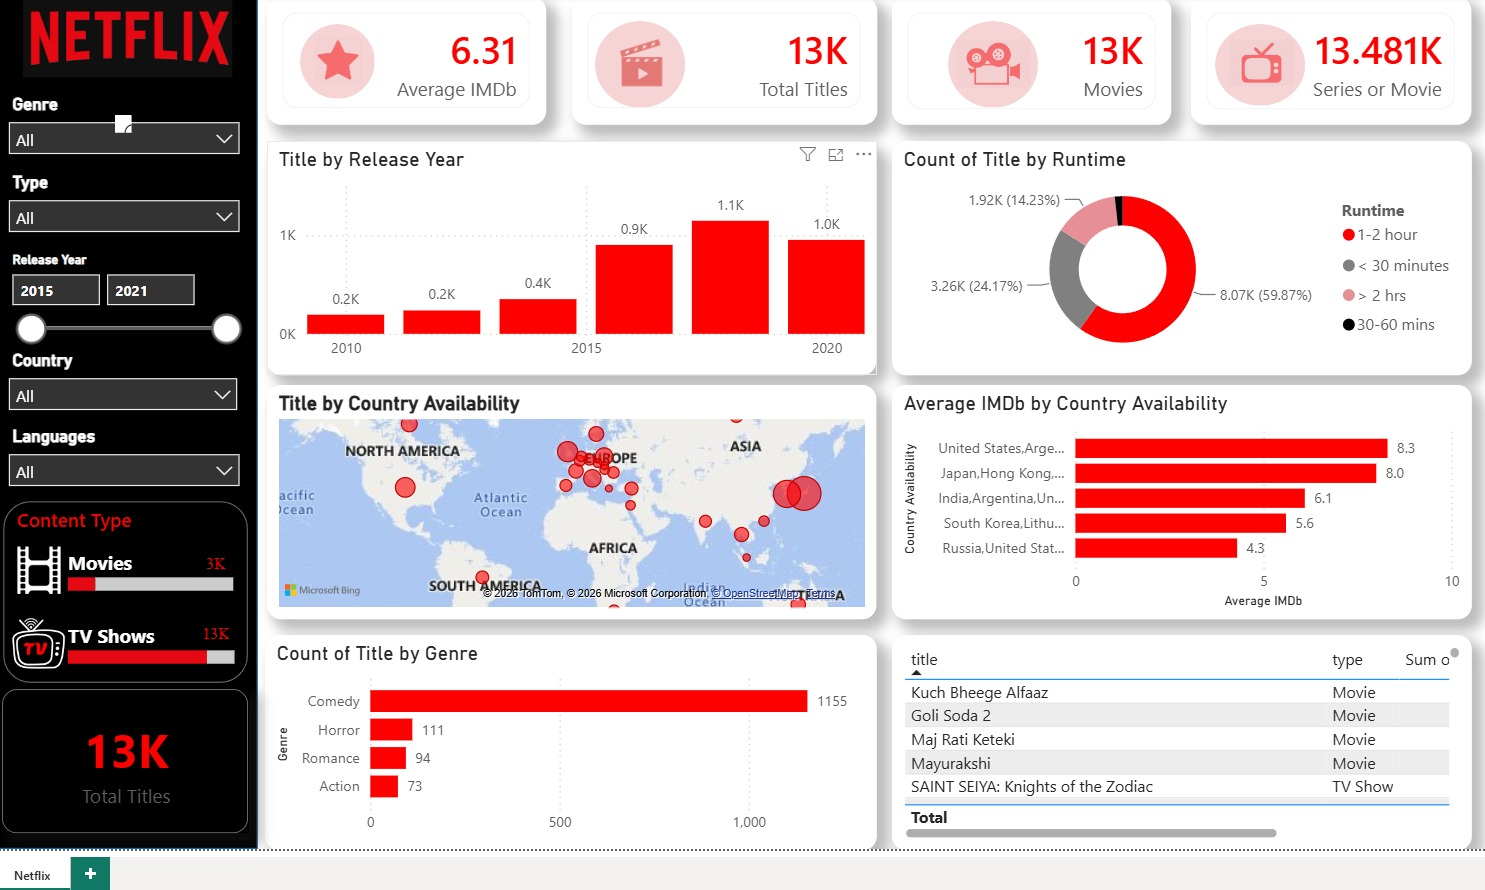

This screenshot's page, from the dashboard's own definition file:
{"tool":"powerbi","page":{"name":"Page 1","canvas":[1280,720],"ordinal":0},"visuals":[{"type":"shape","box":[0,0,220.3,720],"z":0},{"type":"image","box":[5.8,0,208.8,67.7],"z":1000},{"type":"slicer","fields":{"Values":["netflix-rotten-tomatoes-metaric.Genre"]},"box":[0,77.8,214.6,66.2],"z":2000},{"type":"slicer","fields":{"Values":["netflix_titles.type"]},"box":[0,144,214.6,66.2],"z":3000},{"type":"slicer","fields":{"Values":["netflix-rotten-tomatoes-metaric.Netflix Release Year"]},"box":[0,210.2,214.6,109.4],"z":4000},{"type":"slicer","fields":{"Values":["netflix-rotten-tomatoes-metaric.Country Availability"]},"box":[0,293.8,213.1,64.8],"z":5000},{"type":"slicer","fields":{"Values":["netflix-rotten-tomatoes-metaric.Languages"]},"box":[0,358.6,214.6,66.2],"z":6000},{"type":"cardVisual","fields":{"Data":["netflix-rotten-tomatoes-metaric.Average IMDb"]},"box":[228.1,0,235.9,107.8],"z":7000},{"type":"cardVisual","fields":{"Data":["netflix-rotten-tomatoes-metaric.Total Titles"]},"box":[485.9,0,257.8,107.8],"z":8000},{"type":"cardVisual","fields":{"Data":["netflix-rotten-tomatoes-metaric.Movies"]},"box":[756,0,236.2,108],"z":9000},{"type":"cardVisual","fields":{"Data":["CountNonNull(netflix-rotten-tomatoes-metaric.Series or Movie)"]},"box":[1009.2,0,236.7,108.2],"z":10000},{"type":"columnChart","title":"Title by Release Year","fields":{"Category":["netflix_titles.release_year"],"Y":["CountNonNull(netflix_titles.title)"]},"box":[228.6,121.4,515.3,198],"z":11000},{"type":"donutChart","fields":{"Category":["netflix-rotten-tomatoes-metaric.Runtime"],"Y":["CountNonNull(netflix-rotten-tomatoes-metaric.Title)"]},"box":[756.1,121.4,489.8,198],"z":12000},{"type":"map","title":"Title by Country Availability","fields":{"Category":["netflix-rotten-tomatoes-metaric.Country Availability"],"Size":["CountNonNull(netflix-rotten-tomatoes-metaric.Title)"]},"box":[228.6,327.6,515.3,198],"z":13000},{"type":"clusteredBarChart","fields":{"Category":["netflix-rotten-tomatoes-metaric.Country Availability"],"Y":["netflix-rotten-tomatoes-metaric.Average IMDb"]},"box":[756.1,327.6,489.8,198],"z":14000},{"type":"barChart","fields":{"Category":["netflix-rotten-tomatoes-metaric.Genre"],"Y":["CountNonNull(netflix-rotten-tomatoes-metaric.Title)"]},"box":[226.5,538.8,517.3,181.6],"z":15000},{"type":"tableEx","fields":{"Values":["netflix_titles.title","netflix_titles.type","Sum(netflix_titles.release_year)","Sum(netflix-rotten-tomatoes-metaric.IMDb Score)"]},"box":[756.1,538.8,489.8,181.6],"z":16000},{"type":"image","box":[254.9,34.6,66.2,40.3],"z":17000},{"type":"shape","box":[256.3,23,63.4,63.4],"z":18000},{"type":"image","box":[511.2,33.1,66.2,44.6],"z":19000},{"type":"image","box":[810.7,23,63.4,66.2],"z":20000},{"type":"shape","box":[803.5,20.2,76.3,73.4],"z":21000},{"type":"image","box":[1041.1,33.1,54.7,44.6],"z":22000},{"type":"shape","box":[1029.6,23,76.3,69.1],"z":23000},{"type":"shape","box":[505.4,20.2,76.3,73.4],"z":24000},{"type":"cardVisual","fields":{"Data":["netflix-rotten-tomatoes-metaric.Total Titles"]},"box":[4.3,584.6,208.8,122.4],"z":25000},{"type":"textbox","box":[11.5,426.2,191.5,38.9],"z":26000},{"type":"image","box":[0,514.1,70.6,66.2],"z":27000},{"type":"image","box":[0,401.8,70.6,165.6],"z":28000},{"type":"textbox","box":[54.7,524.2,142.6,56.2],"z":29000},{"type":"textbox","box":[54.7,462.2,144,51.8],"z":30000},{"type":"shape","box":[4.3,424.8,208.8,155.5],"z":31000},{"type":"barChart","box":[100,100,14,15],"z":32000},{"type":"hundredPercentStackedBarChart","fields":{"Y":["Content Type.Movies Count","Content Type.TV Shows Count"]},"box":[54.7,462.2,149.8,60.5],"z":33000},{"type":"barChart","fields":{"Y":["Content Type.TV Shows Count","Content Type.Movies Count"]},"box":[54.7,524.2,184.3,60.5],"z":34000},{"type":"cardVisual","fields":{"Data":["Content Type.Movies Count"]},"box":[146.9,446.4,76.3,61.9],"z":35000},{"type":"cardVisual","fields":{"Data":["Content Type.TV Shows Count"]},"box":[146.9,505.4,76.3,61.9],"z":36000}]}

Visuals, with their boxes in screenshot pixels (x1, y1, x2, y2):
shape: [x1=0, y1=0, x2=254, y2=846]
image: [x1=0, y1=0, x2=247, y2=73]
slicer - netflix-rotten-tomatoes-metaric.Genre: [x1=0, y1=85, x2=247, y2=163]
slicer - netflix_titles.type: [x1=0, y1=163, x2=247, y2=242]
slicer - netflix-rotten-tomatoes-metaric.Netflix Release Year: [x1=0, y1=242, x2=247, y2=371]
slicer - netflix-rotten-tomatoes-metaric.Country Availability: [x1=0, y1=341, x2=245, y2=418]
slicer - netflix-rotten-tomatoes-metaric.Languages: [x1=0, y1=418, x2=247, y2=496]
cardVisual - netflix-rotten-tomatoes-metaric.Average IMDb: [x1=263, y1=0, x2=543, y2=120]
cardVisual - netflix-rotten-tomatoes-metaric.Total Titles: [x1=569, y1=0, x2=874, y2=120]
cardVisual - netflix-rotten-tomatoes-metaric.Movies: [x1=889, y1=0, x2=1169, y2=120]
cardVisual - CountNonNull(netflix-rotten-tomatoes-metaric.Series or Movie): [x1=1189, y1=0, x2=1470, y2=121]
"Title by Release Year" columnChart: [x1=263, y1=136, x2=875, y2=371]
donutChart - netflix-rotten-tomatoes-metaric.Runtime x CountNonNull(netflix-rotten-tomatoes-metaric.Title): [x1=889, y1=136, x2=1470, y2=371]
"Title by Country Availability" map: [x1=263, y1=381, x2=875, y2=616]
clusteredBarChart - netflix-rotten-tomatoes-metaric.Country Availability x netflix-rotten-tomatoes-metaric.Average IMDb: [x1=889, y1=381, x2=1470, y2=616]
barChart - netflix-rotten-tomatoes-metaric.Genre x CountNonNull(netflix-rotten-tomatoes-metaric.Title): [x1=261, y1=631, x2=875, y2=847]
tableEx - netflix_titles.title x netflix_titles.type: [x1=889, y1=631, x2=1470, y2=847]
image: [x1=295, y1=33, x2=373, y2=81]
shape: [x1=296, y1=20, x2=371, y2=95]
image: [x1=599, y1=32, x2=677, y2=84]
image: [x1=954, y1=20, x2=1029, y2=98]
shape: [x1=945, y1=16, x2=1036, y2=103]
image: [x1=1227, y1=32, x2=1292, y2=84]
shape: [x1=1214, y1=20, x2=1304, y2=102]
shape: [x1=592, y1=16, x2=682, y2=103]
cardVisual - netflix-rotten-tomatoes-metaric.Total Titles: [x1=0, y1=686, x2=245, y2=831]
textbox: [x1=6, y1=498, x2=233, y2=544]
image: [x1=0, y1=602, x2=76, y2=681]
image: [x1=0, y1=469, x2=76, y2=665]
textbox: [x1=57, y1=614, x2=226, y2=681]
textbox: [x1=57, y1=541, x2=228, y2=602]
shape: [x1=0, y1=496, x2=245, y2=681]
barChart: [x1=111, y1=111, x2=127, y2=129]
hundredPercentStackedBarChart - Content Type.Movies Count x Content Type.TV Shows Count: [x1=57, y1=541, x2=235, y2=612]
barChart - Content Type.TV Shows Count x Content Type.Movies Count: [x1=57, y1=614, x2=276, y2=686]
cardVisual - Content Type.Movies Count: [x1=167, y1=522, x2=257, y2=595]
cardVisual - Content Type.TV Shows Count: [x1=167, y1=592, x2=257, y2=665]
